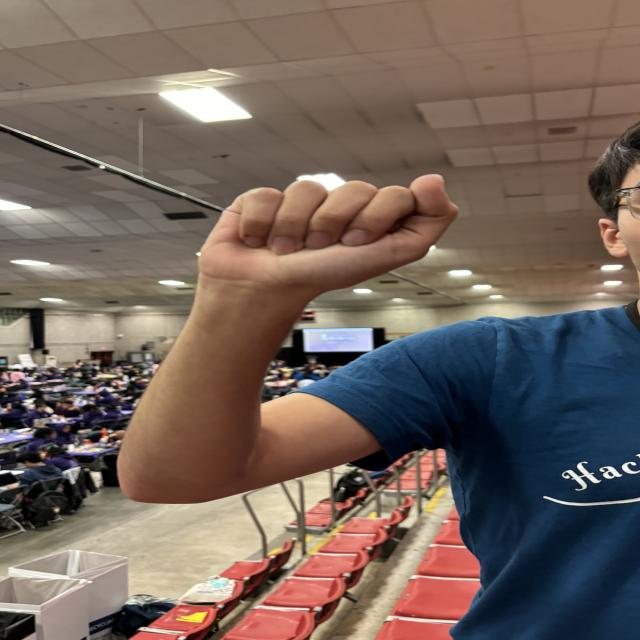A: (170, 167, 470, 281)
